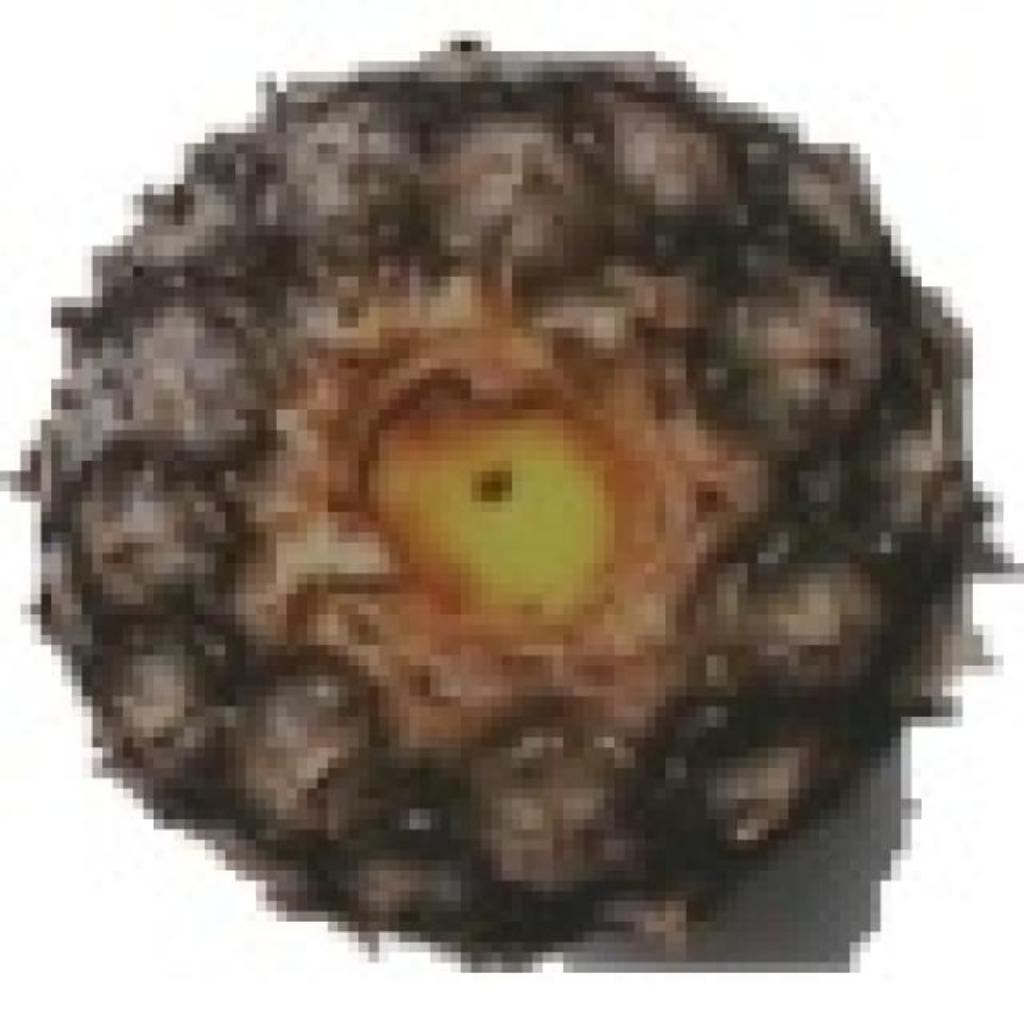pineapple: (10, 31, 963, 952)
